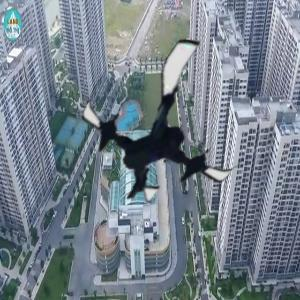drone: (79, 36, 257, 214)
